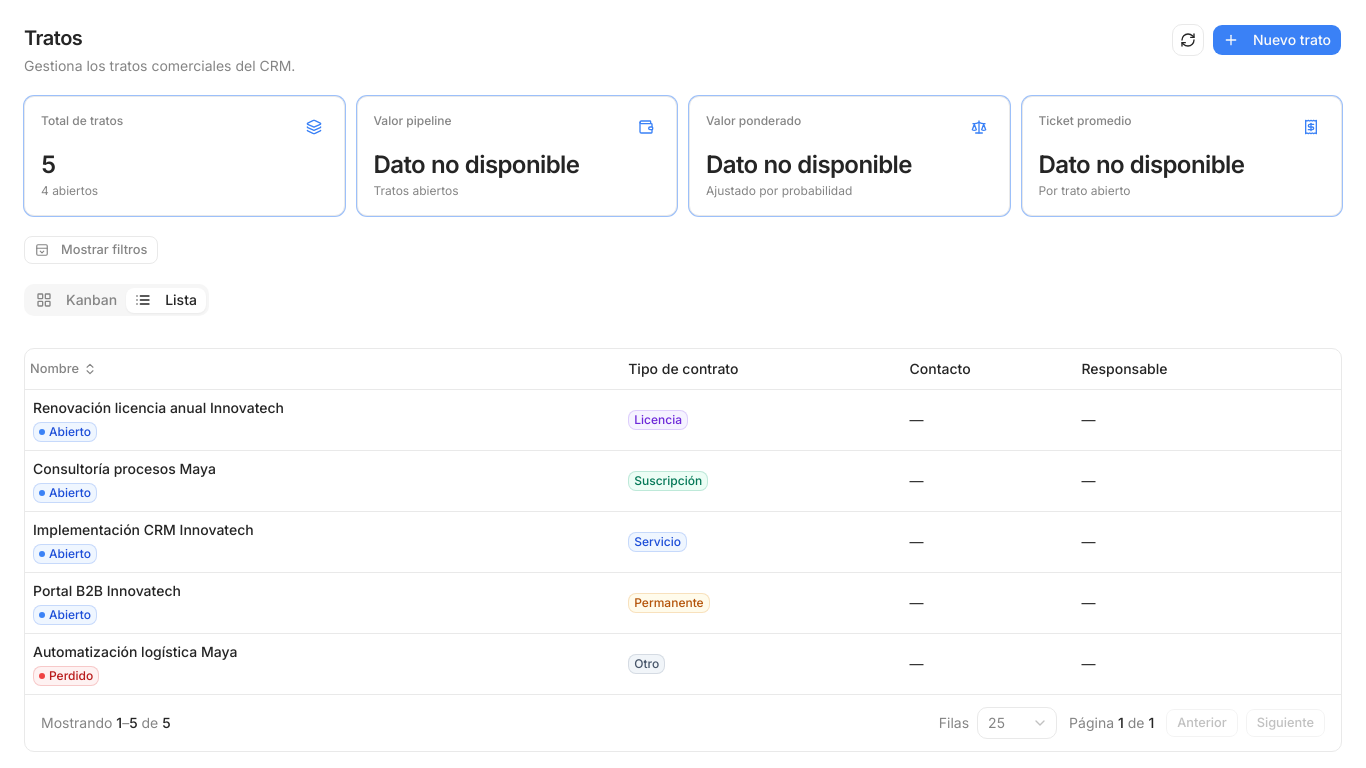
Test: TratosListPage — filtros avanzados y presets › filtro responsable aplica client-side sin refetch ni query params
The width and height of the screenshot is (1366, 768).
Click the button "Mostrar filtros": (91,250) 24,236 -> 158,264
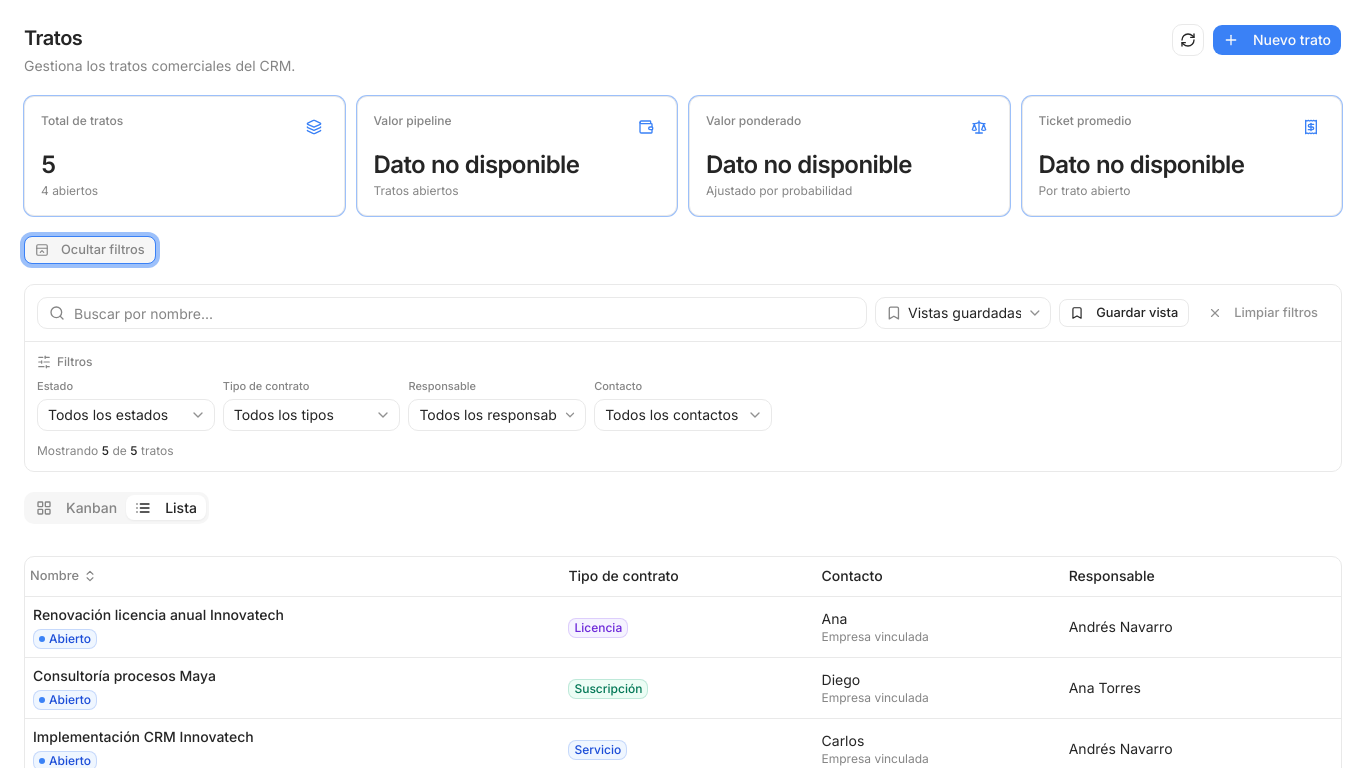
Expected: the button named "mostrar filtros" is expanded, 24,236 -> 156,264
Click the dropdown labelled "Todos los responsables": (497,414) 408,398 -> 586,430
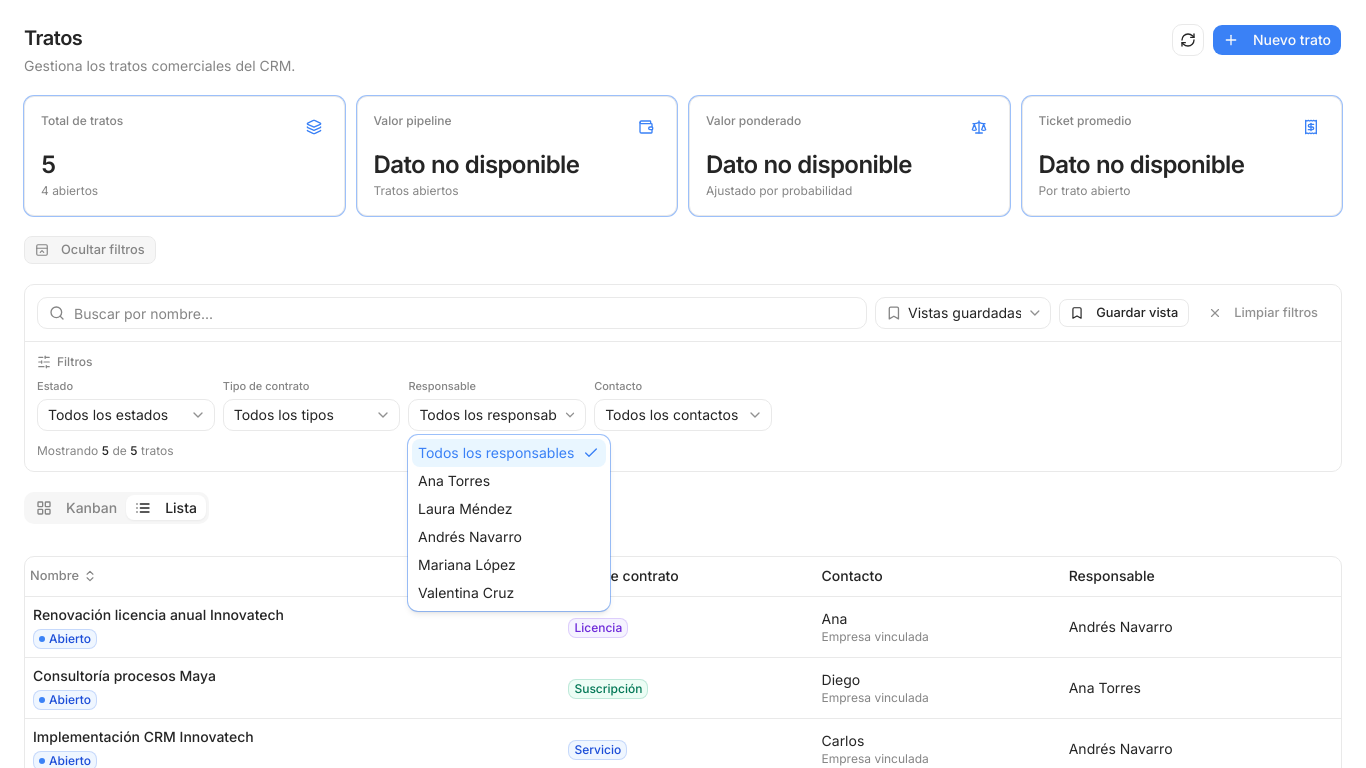
Click the option "Ana Torres": (454,480) 418,472 -> 490,489
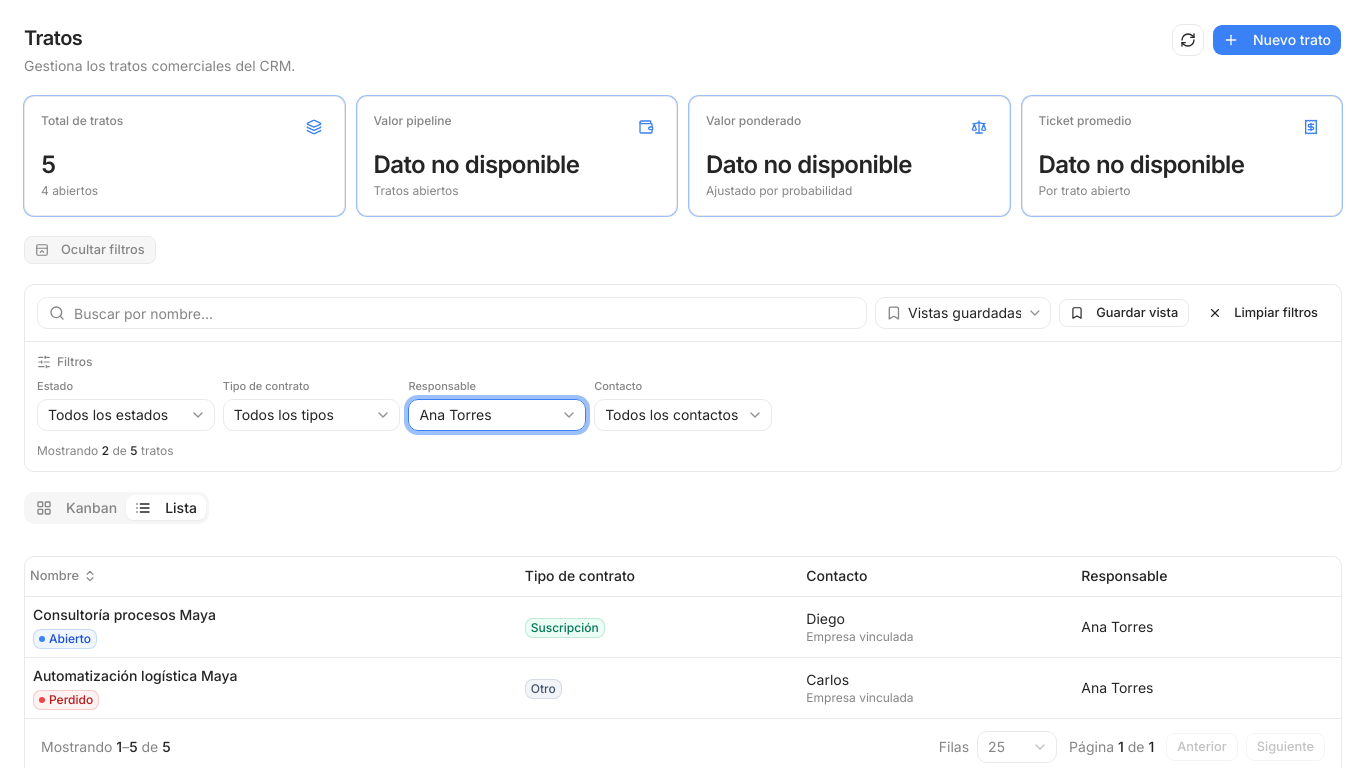
Expected: the button "Consultoría procesos Maya" is shown, 33,605 -> 509,625
Expected: the button "Implementación CRM Innovatech" is gone
